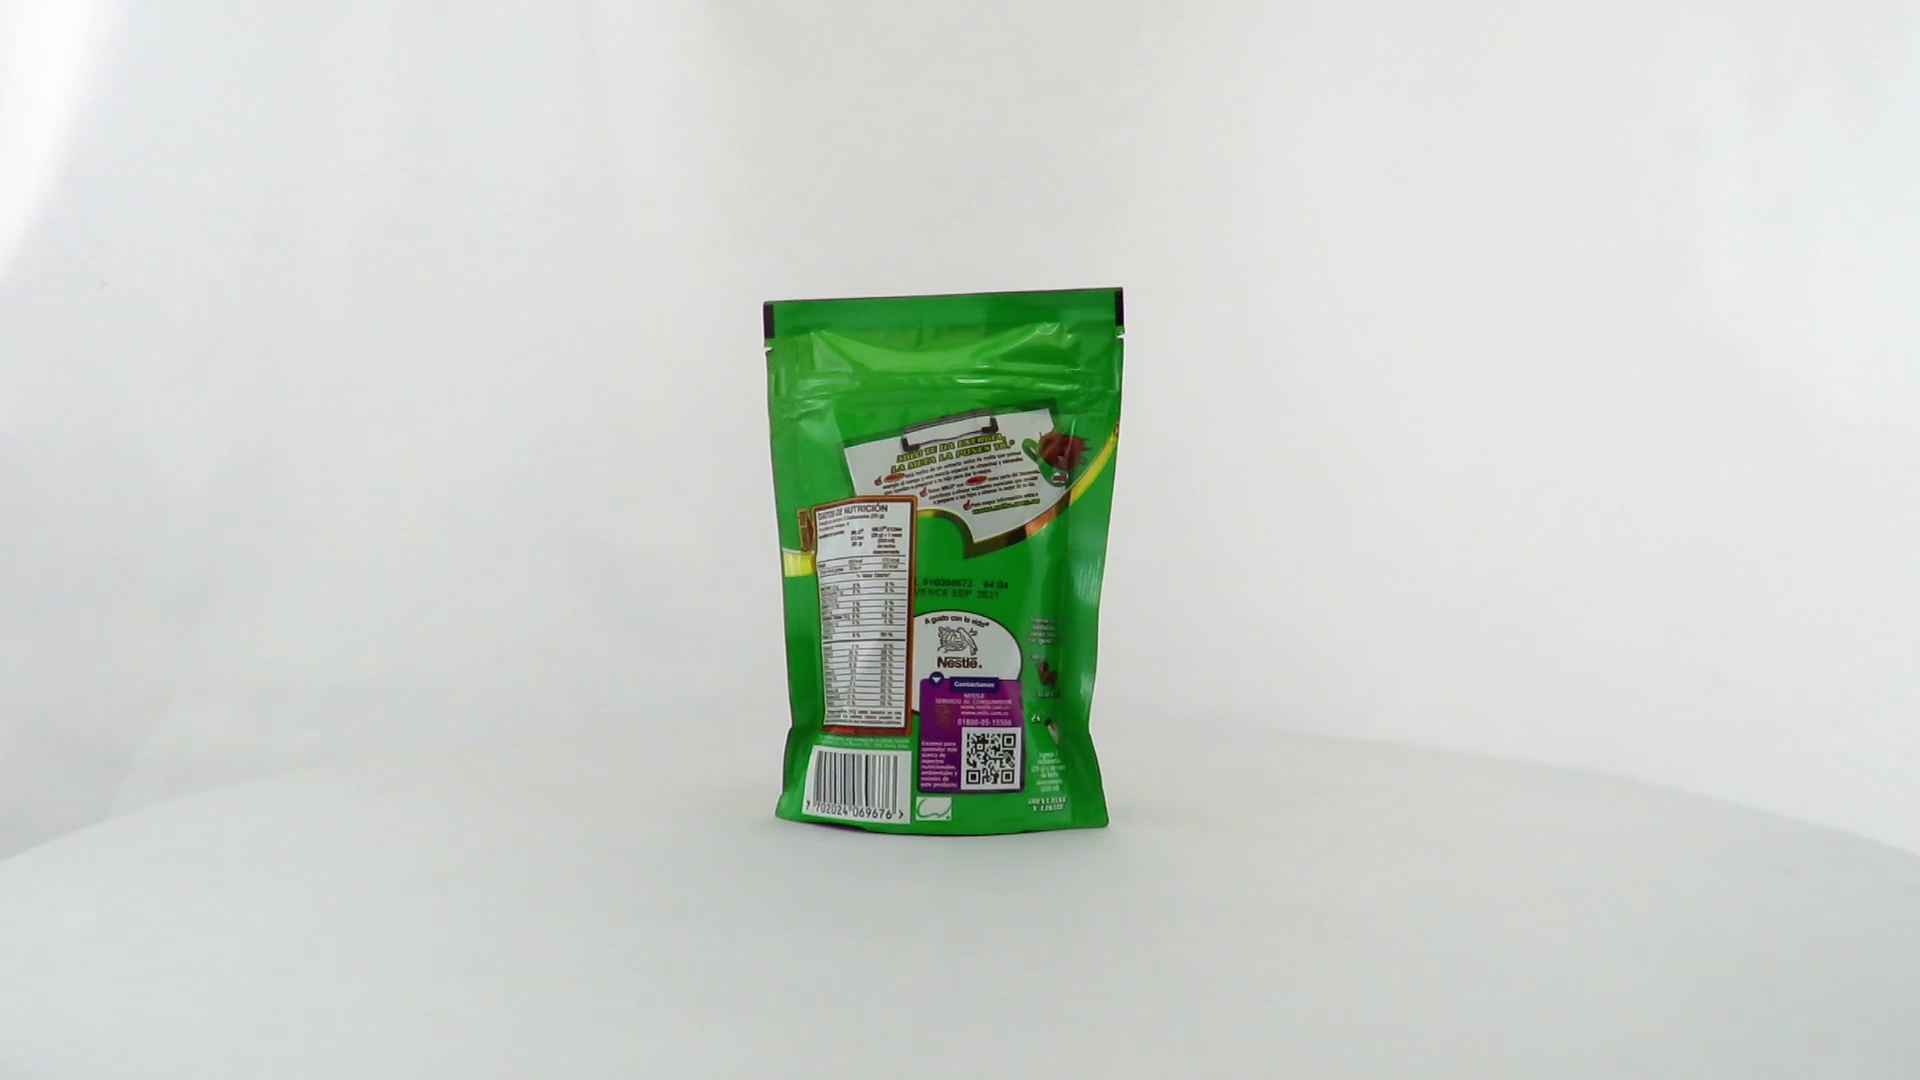COL0170203DYP10000: (758, 282, 1131, 843)
